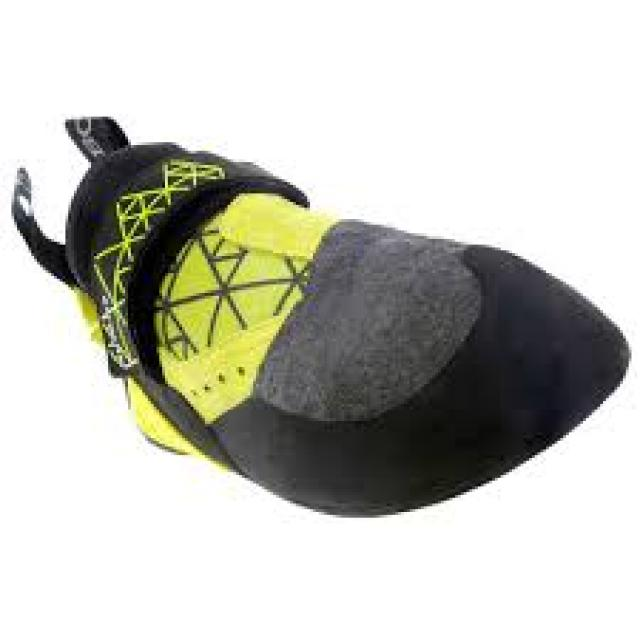climbing-shoes: (9, 113, 630, 518)
